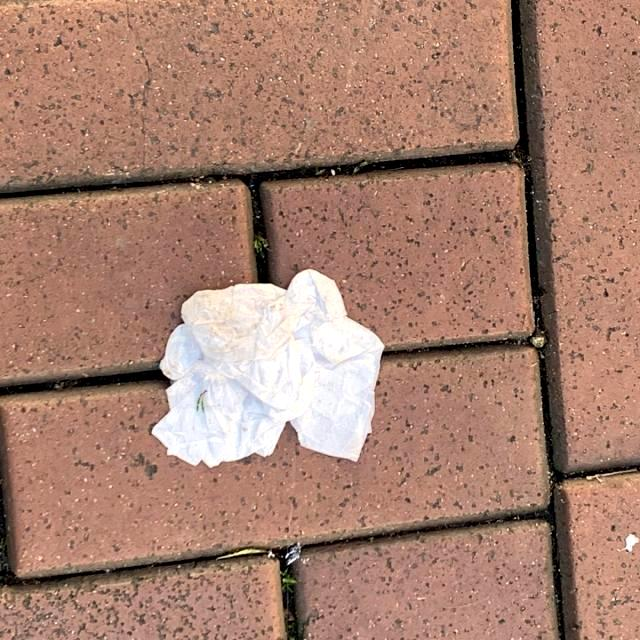Paper: (148, 264, 388, 472)
